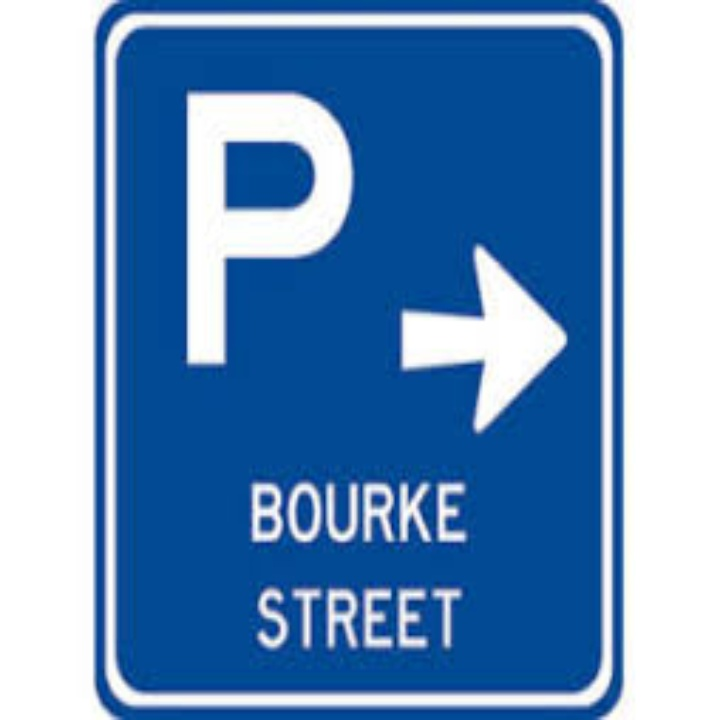parking: (173, 83, 362, 383)
